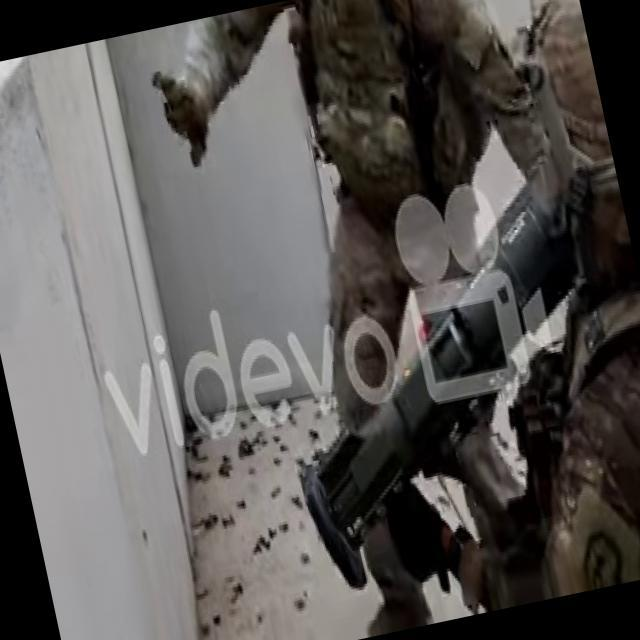rocket: (254, 172, 616, 598)
